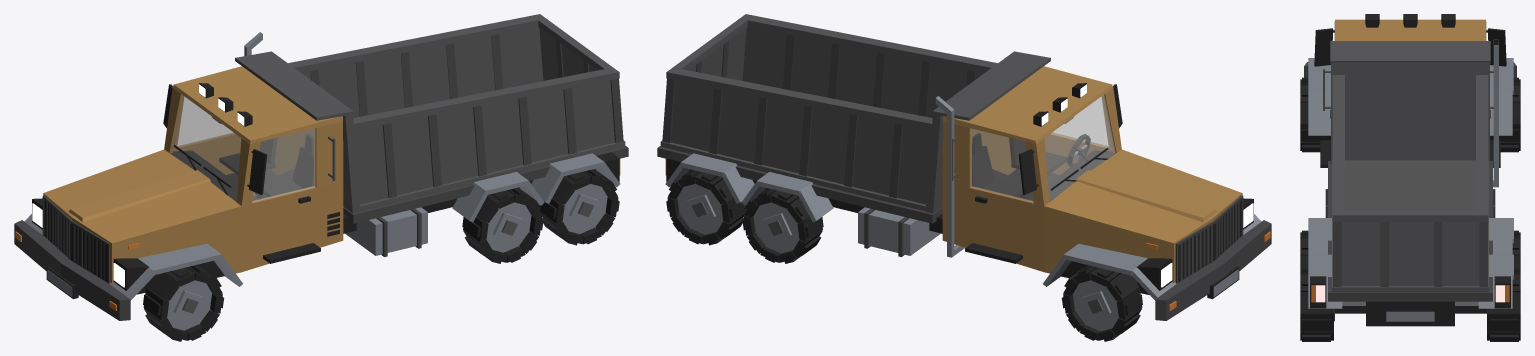
The model's file is LowPolyTipper.glb.
3 views of the same model, side by side, from view 1: azimuth 30°, elevation 25°; view 2: azimuth 150°, elevation 25°; view 3: azimuth 270°, elevation 25° (orthographic).
Visible parts, largest first — view 1: truck.001_161; view 2: truck.001_161; view 3: truck.001_161.
Boxes of the visible parts, left/top/right/bottom form: truck.001_161: left=14, top=14, right=628, bottom=341; truck.001_161: left=657, top=14, right=1271, bottom=341; truck.001_161: left=1300, top=14, right=1520, bottom=341.
Size of the model in its own units: 7.06 by 2.49 by 2.6.
Materials: 4 (1 with a texture image).
